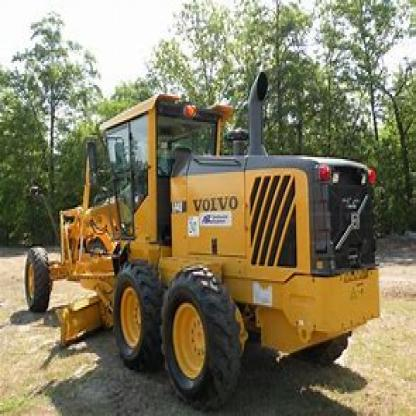bull_dozer/loader/grader: (20, 85, 380, 396)
